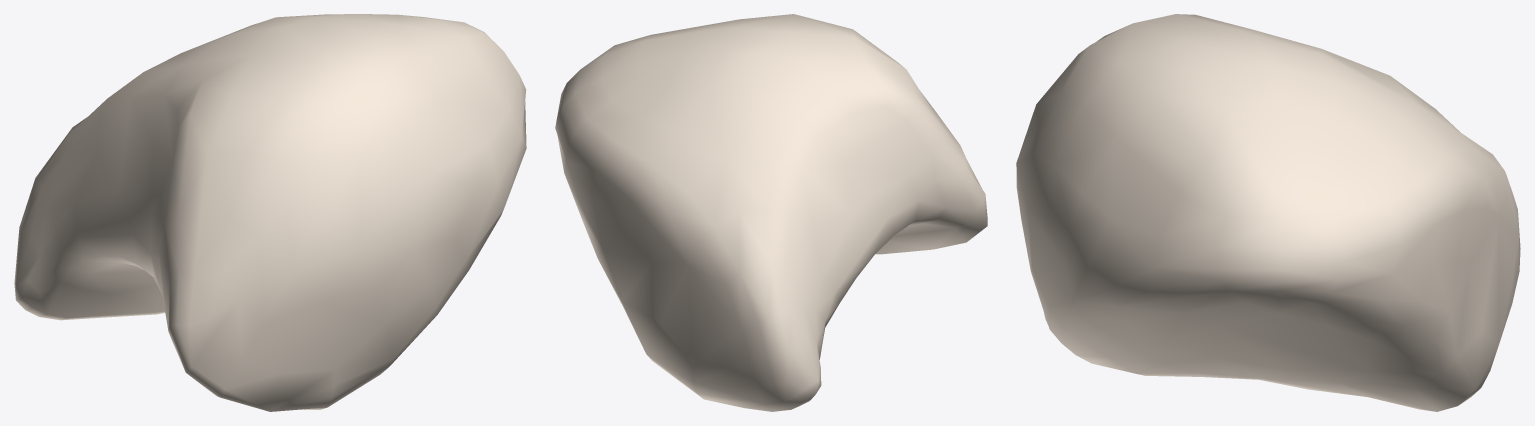
Rendered from right_lunate.glb.
3 views of the same model, side by side, from view 1: azimuth 30°, elevation 25°; view 2: azimuth 150°, elevation 25°; view 3: azimuth 270°, elevation 25° (orthographic). The views are drawn at different scales.
Parts seen in each view (by area): view 1: Lunate bone.r; view 2: Lunate bone.r; view 3: Lunate bone.r.
Boxes of the visible parts, x1,y1,x2,y2 form: Lunate bone.r: (14,14,526,411); Lunate bone.r: (555,14,987,411); Lunate bone.r: (1016,14,1520,411).
Bounding box in the file's own units: 0.0129 × 0.00997 × 0.0123.
